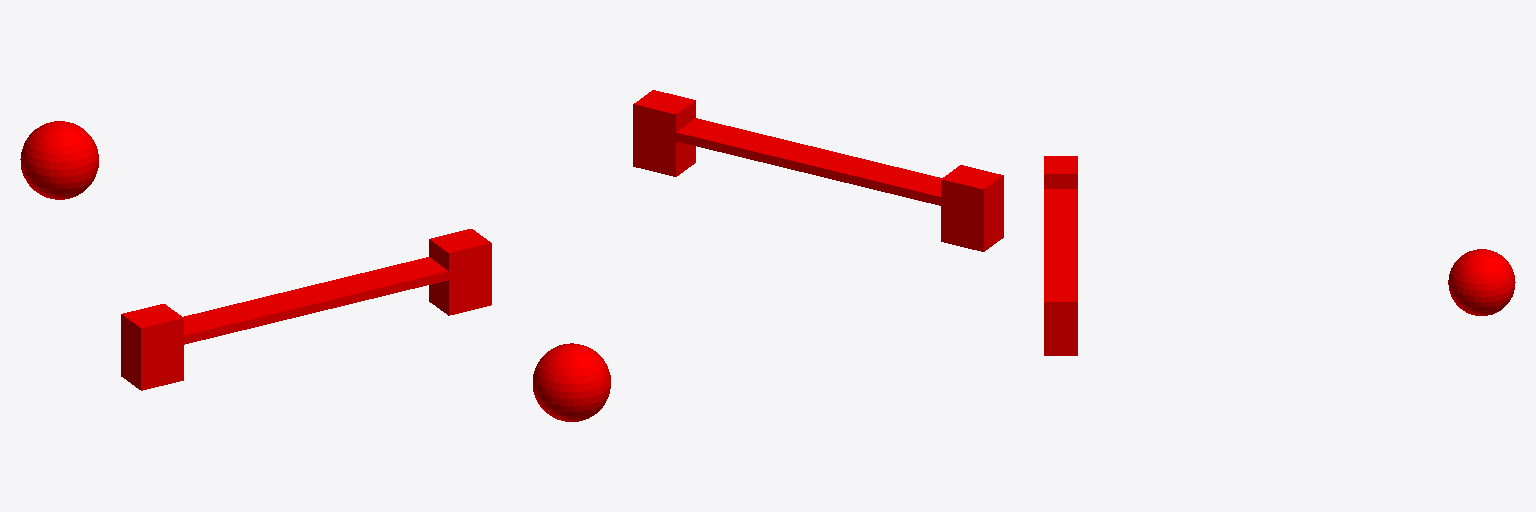
The robot description file, URDF, robot "gate":
<?xml version="1.0" ?>
<robot name = "gate">


    <link name = "base_left">
        <visual>
            <origin xyz = "-0.9 0 0.175" rpy = "0 0 0"/>
 
            <geometry>
                <box size = "0.25 0.2 0.35"/>
            </geometry>
            <material name = "red">
                <color rgba = "1 0 0 0"/>
            </material>    
        </visual>
        <collision>
            <origin xyz = "-0.9 0 0.175" rpy = "0 0 0"/>
            <geometry>
                <box size = "0.25 0.2 0.35"/>
            </geometry>
            <!-- <origin xyz = "-0.9 0 0.15" rpy = "0 0 0"/> -->
        </collision>
        <inertial>
            <mass value="20"/>
            <inertia ixx="0.01" ixy="0.0" ixz="0.0" iyy="0.01" iyz="0.0" izz="0.01"/>
          </inertial>
      
    </link> 


    <link name = "base_up">
        <visual>
            <origin xyz = "0 0 0.225" rpy = "0 0 0"/>
            <geometry>
                <box size = "1.8 0.2 0.05"/>
            </geometry>
            <!-- <origin xyz = "0 0 0.275" rpy = "0 0 0"/> -->
            <material name = "red">
                <color rgba = "1 0 0 0"/>
            </material>    

        </visual>
        <collision>
            <origin xyz = "0 0 0.225" rpy = "0 0 0"/>
            <geometry>
                <box size = "1.8 0.2 0.05"/>
            </geometry>
            <!-- <origin xyz = "0 0 0.275" rpy = "0 0 0"/> -->
        </collision>
        <inertial>
            <mass value="20"/>
            <inertia ixx="0.01" ixy="0.0" ixz="0.0" iyy="0.01" iyz="0.0" izz="0.01"/>
          </inertial>
      
    </link> 


    <joint name = "base_ji_left" type = 'fixed'>
        <parent link = "base_left"/>
        <child link = "base_up"/>
        <origin xyz = "0 0 0" rpy = "0 0 0"/>
    </joint>

    <link name = "base_right">
        <visual>
            <origin xyz = "0.9 0 0.175" rpy = "0 0 0"/>
            <geometry>
                <box size = "0.25 0.2 0.35"/>
            </geometry>
            <material name = "red">
                <color rgba = "1 0 0 0"/>
            </material>    
            <!-- <origin xyz = "0.9 0 0.15" rpy = "0 0 0"/> -->
        </visual>
        <collision>
            <origin xyz = "0.9 0 0.175" rpy = "0 0 0"/>
            <geometry>
                <box size = "0.25 0.2 0.35"/>
            </geometry>
            
        </collision>
        <inertial>
            <mass value="20"/>
            <inertia ixx="0.01" ixy="0.0" ixz="0.0" iyy="0.01" iyz="0.0" izz="0.01"/>
          </inertial>
      
    </link> 

    <joint name = "base_ji_right" type = 'fixed'>
        <parent link = "base_up"/>
        <child link = "base_right"/>
        <origin xyz = "0 0 0" rpy = "0 0 0"/>
    </joint>

  <link name="ball">
    <visual>
      <origin xyz="0 2.5 0"/>
      <geometry>
        <sphere radius="0.2"/>
      </geometry>
            <material name = "red">
                <color rgba = "1 0 0 0"/>
            </material>    
    </visual>
    <collision>
      <origin xyz="0 2.5 0"/>
      <geometry>
        <sphere radius="0.2"/>
      </geometry>
    </collision>
    <inertial>
      <mass value="0.5"/>
      <inertia ixx="0.01" ixy="0.0" ixz="0.0" iyy="0.01" iyz="0.0" izz="0.01"/>
    </inertial>
  </link>


    <joint name = "base_ji_back" type = 'fixed'>
        <parent link = "base_up"/>
        <child link = "ball"/>
        <origin xyz = "0 0 0" rpy = "0 0 0"/>
    </joint>

    


</robot>

--- Render facts (derived) ---
3 views of the same robot in one strip: view 1: azimuth 30°, elevation 25°; view 2: azimuth 150°, elevation 25°; view 3: azimuth 270°, elevation 25° (orthographic).
Robot: gate — 4 links, 3 joints (3 fixed); root link base_left; default pose: every joint at zero.
Visible links, largest first — view 1: base_up, ball, base_left, base_right; view 2: base_up, ball, base_left, base_right; view 3: ball, base_up, base_right, base_left.
Boxes of the visible links, x1,y1,x2,y2 form: base_up: (163, 257, 469, 349); ball: (20, 121, 98, 199); base_left: (121, 304, 183, 390); base_right: (429, 229, 491, 315); base_up: (655, 118, 954, 205); ball: (533, 343, 610, 421); base_left: (941, 165, 1003, 251); base_right: (633, 90, 695, 176); ball: (1448, 249, 1515, 315); base_up: (1044, 189, 1077, 283); base_right: (1044, 284, 1077, 355); base_left: (1044, 156, 1077, 188).
Size in the robot's own frame: 2.05 by 2.8 by 0.55 metres.
Geometry: primitives only (box / cylinder / sphere), no mesh files.